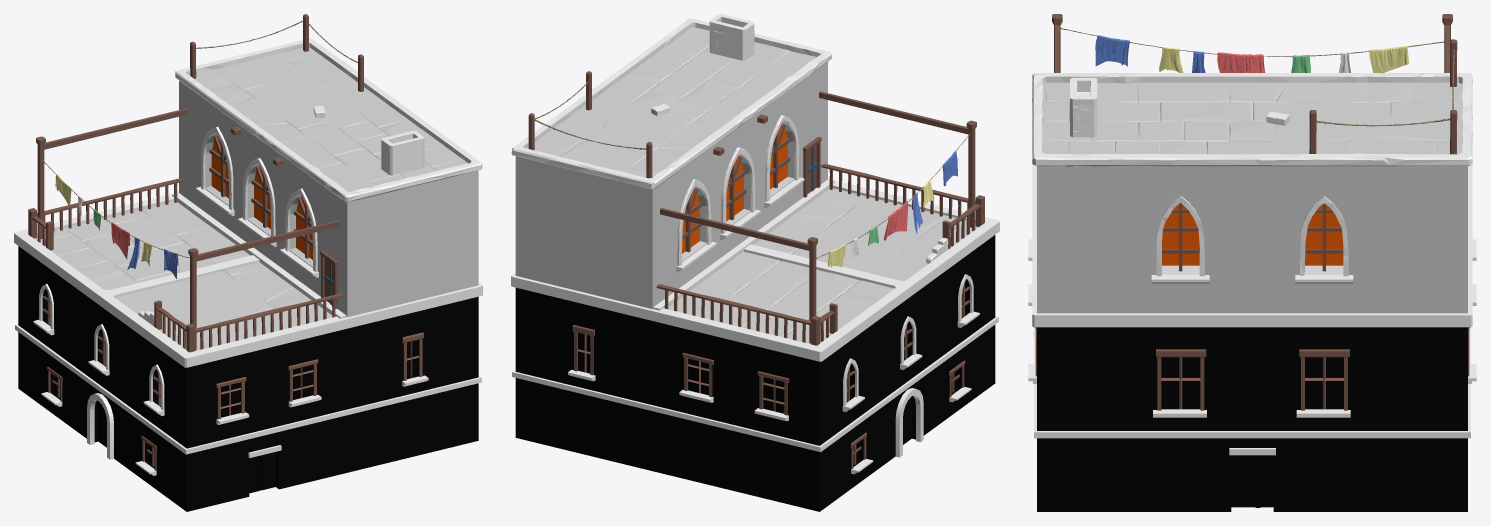
The model's file is civilian_house_11.FBX.
3 views of the same model, side by side, from view 1: azimuth 30°, elevation 25°; view 2: azimuth 150°, elevation 25°; view 3: azimuth 270°, elevation 25° (orthographic). The views are drawn at different scales.
Visible parts, largest first — view 1: civilian_house_11_LOD0; view 2: civilian_house_11_LOD0; view 3: civilian_house_11_LOD0.
Part boxes in pixels (x1=…): civilian_house_11_LOD0: x1=14, y1=14, x2=482, y2=511; civilian_house_11_LOD0: x1=511, y1=14, x2=999, y2=511; civilian_house_11_LOD0: x1=1028, y1=14, x2=1476, y2=511.
Size of what is drawn, in the model's own units: 2098 by 2024 by 2083.
